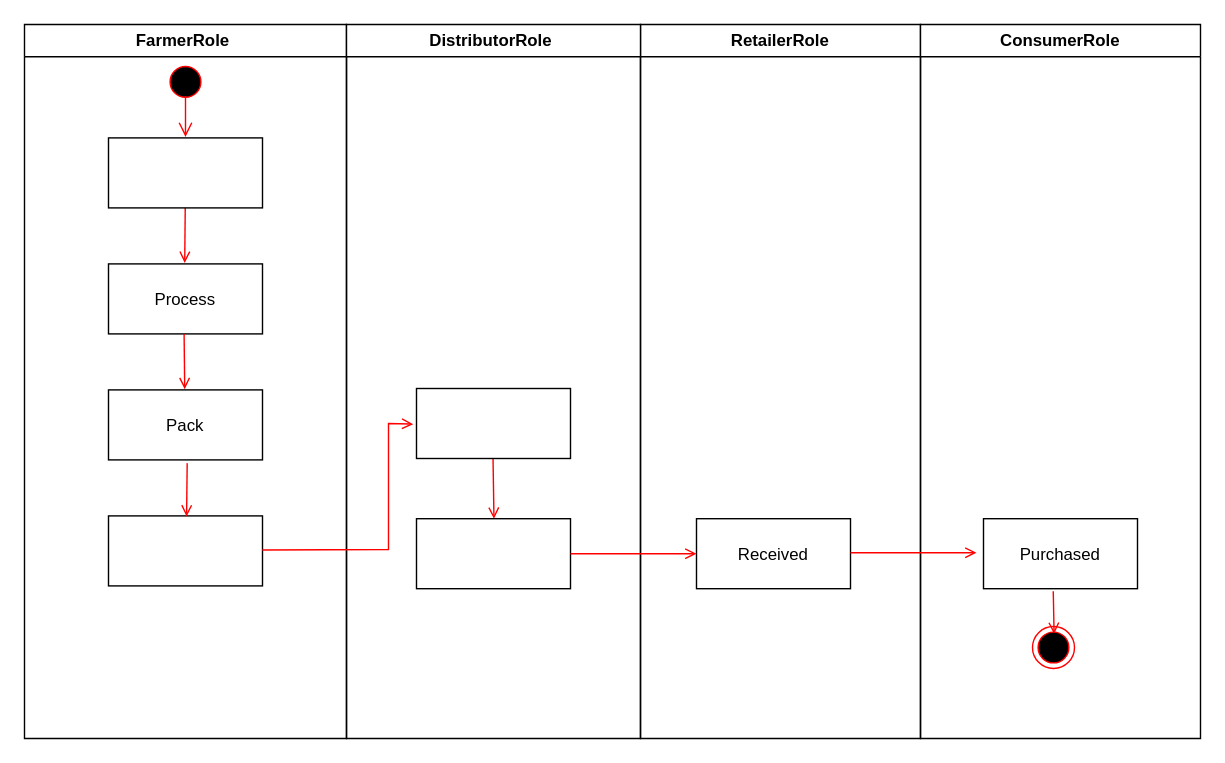
This 1225x763 diagram has some shape labels left out. The centre of each missing label's shape, as x and y in pixels:
ForSale: [184,550]
Harvest: [184,172]
Shipped: [492,553]
Sold: [492,422]
